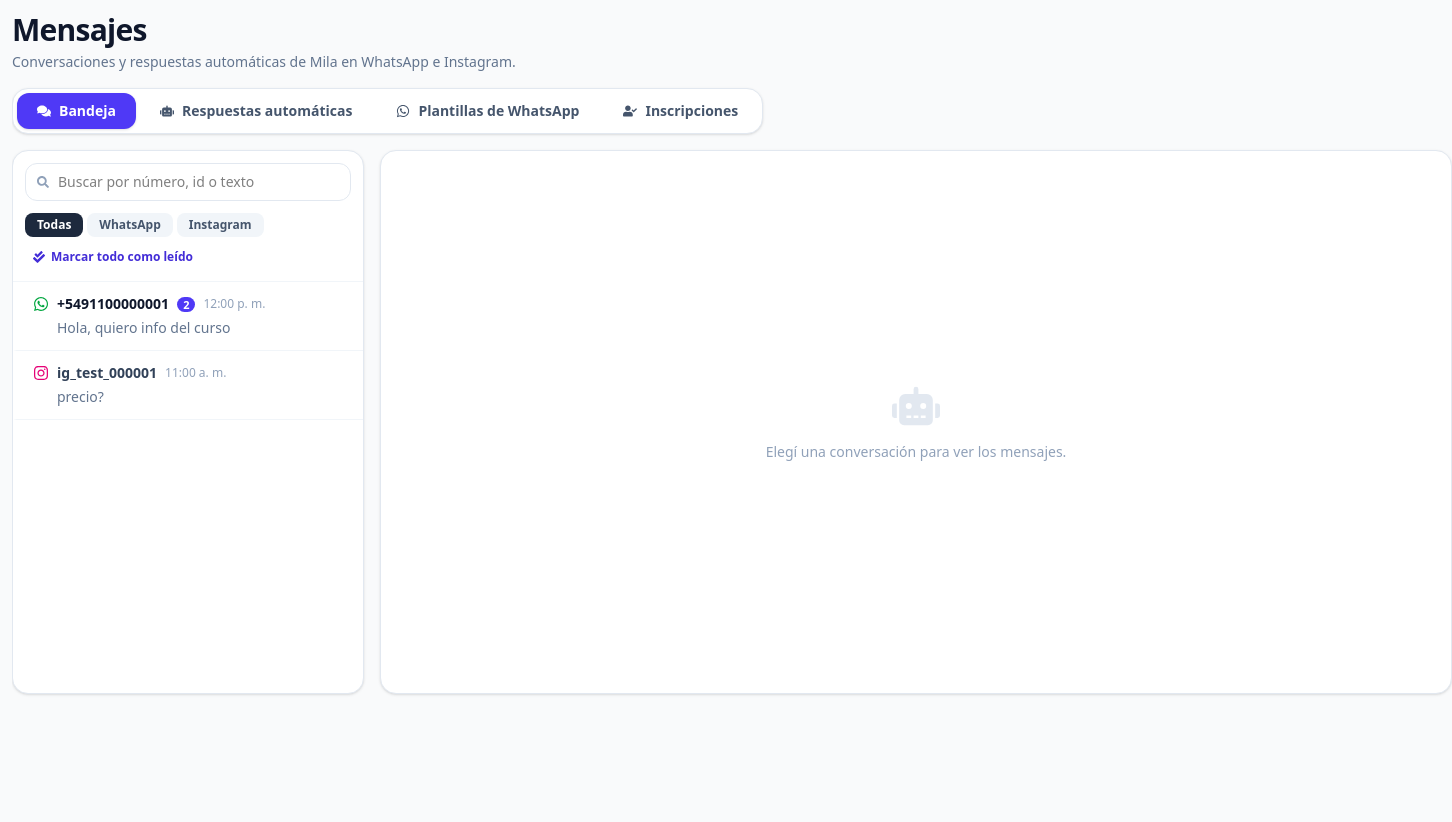
Test: BotMessagePage › inbox › filters by channel on the client, without new requests, and closes the open conversation
Click the button "+5491100000001 2 12:00 p. m. Hola, quiero info del curso": (188, 316) [13,282,363,351]
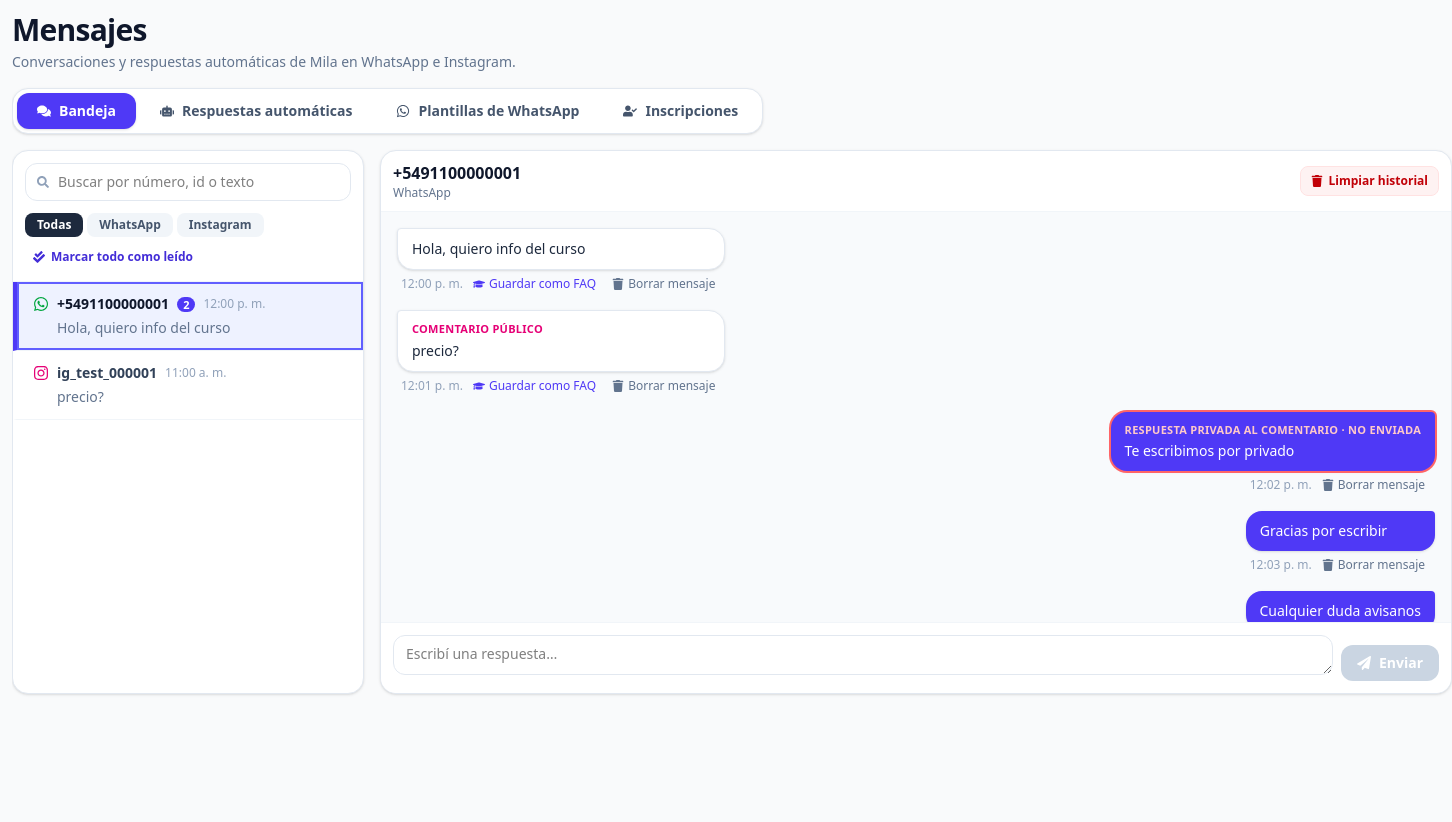
Expected: the text "Te escribimos por privado" is shown, [1125,441,1294,460]
Click the button "Instagram": (220, 225) [177,213,264,237]
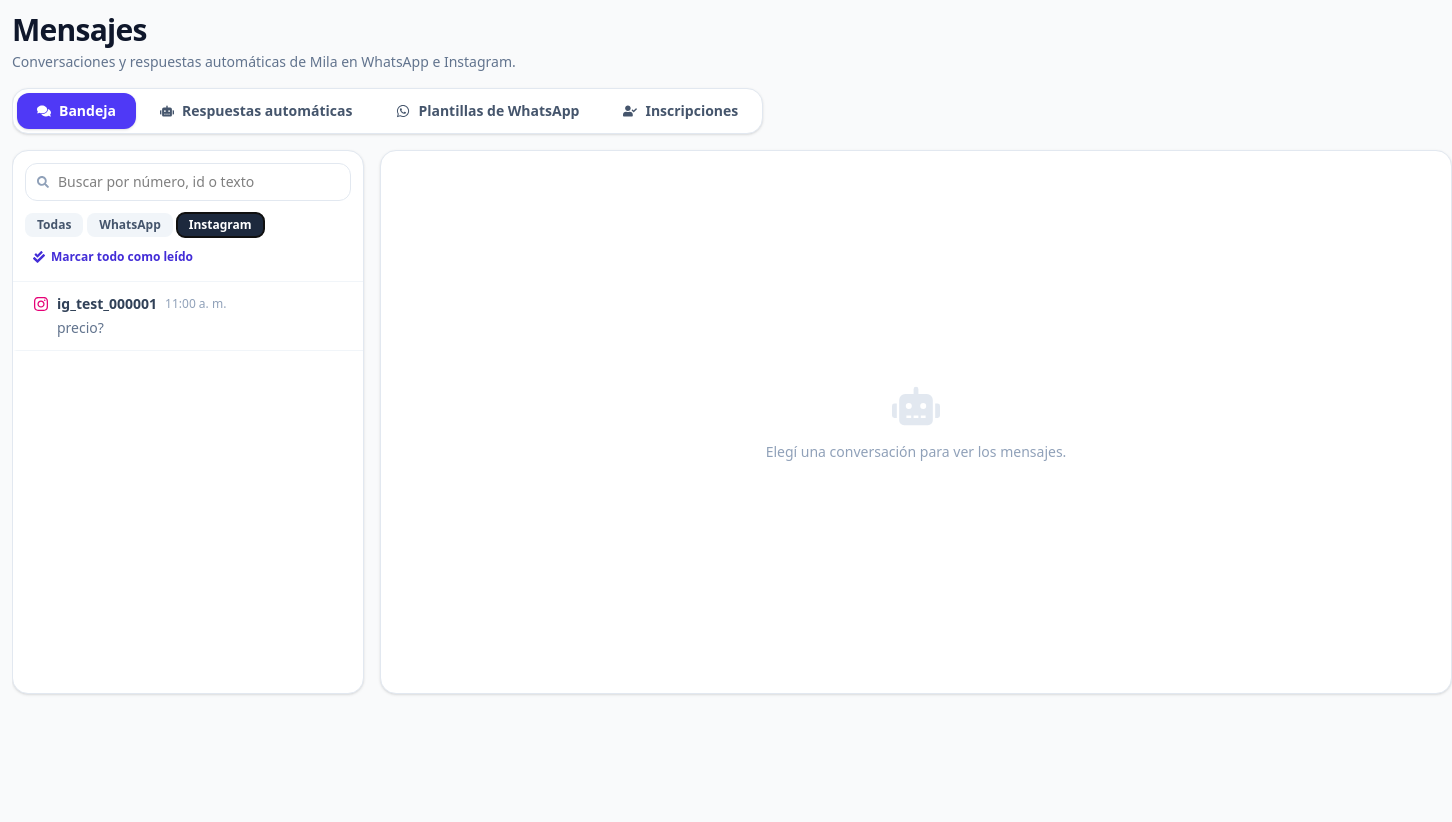
Expected: the button "ig_test_000001 11:00 a. m. precio?" is shown, [13,282,363,351]
Expected: the text "Elegí una conversación para ver los mensajes." is shown, [766,442,1066,462]
Click the button "WhatsApp": (130, 225) [87,213,173,237]
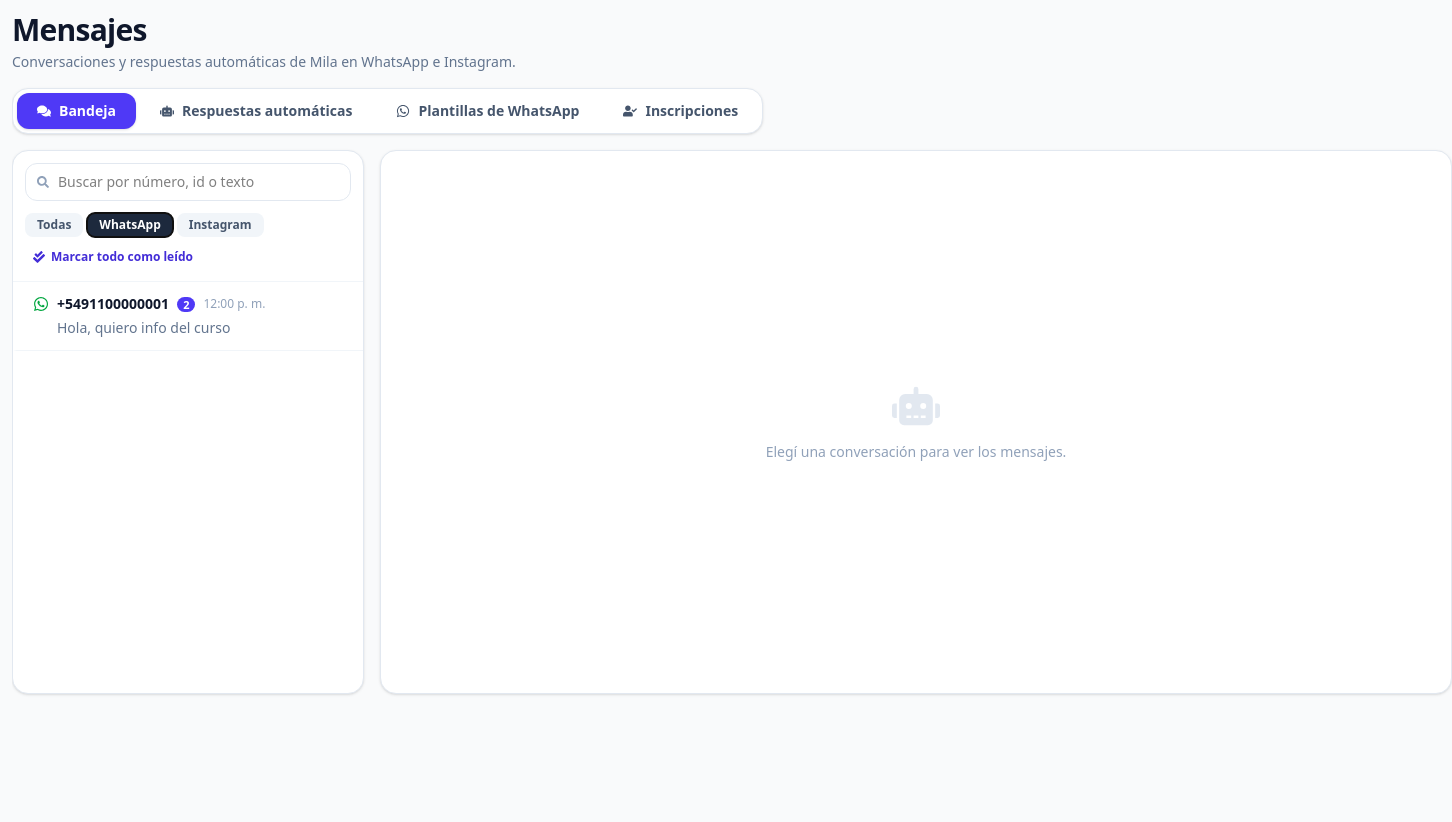
Expected: the button "ig_test_000001" is gone
